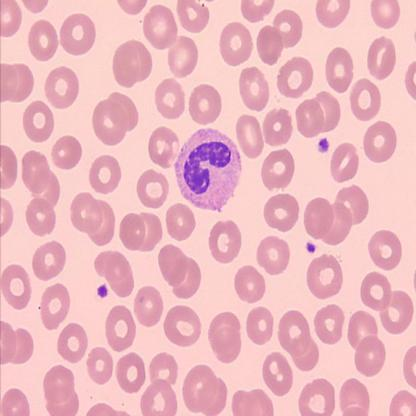Band Neutrophil: (172, 126, 244, 214)
